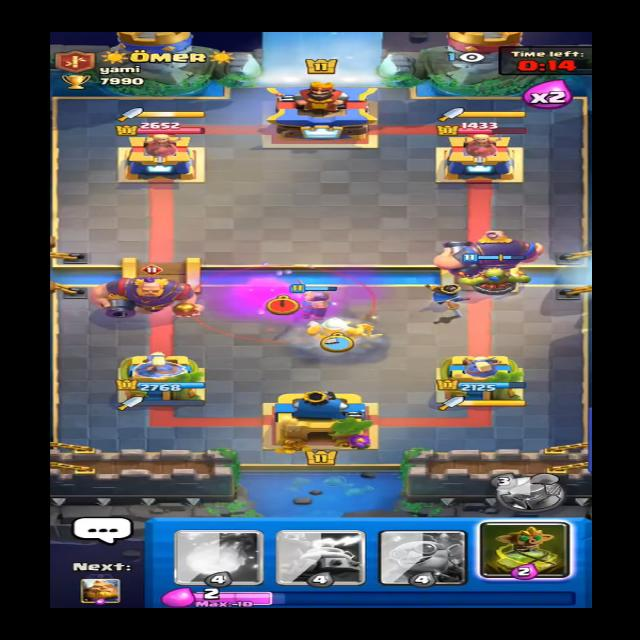Evoroyalgiant: (83, 262, 208, 320)
